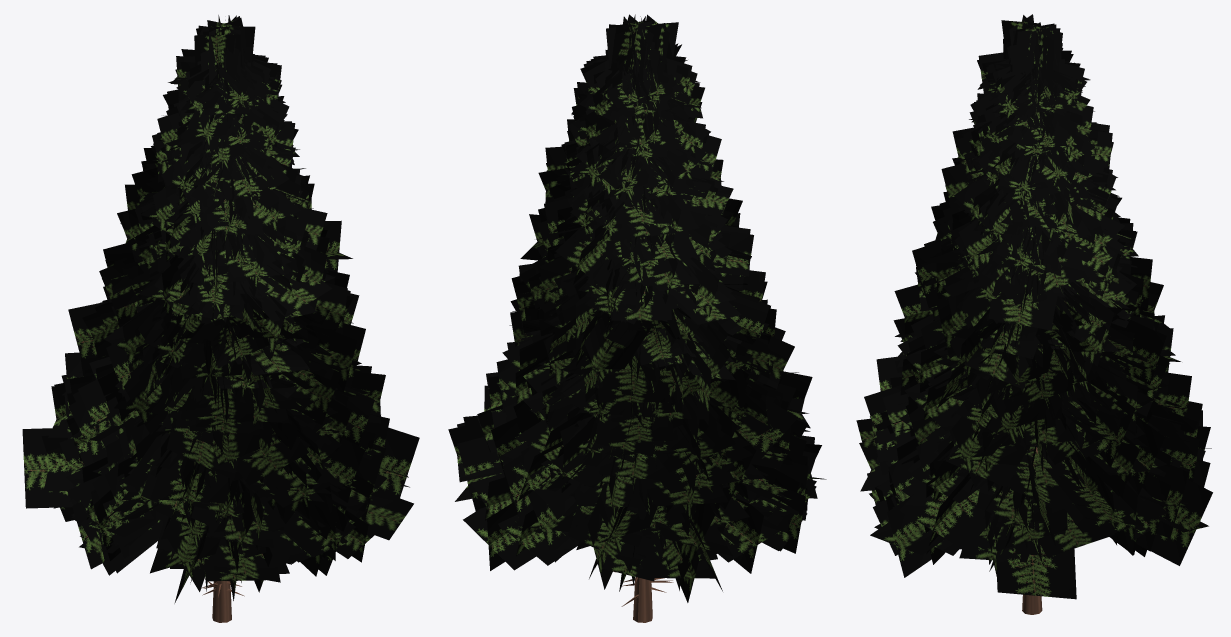
The model's file is tree_larch.glb.
3 renders of one model, left to right at view 1: azimuth 30°, elevation 25°; view 2: azimuth 150°, elevation 25°; view 3: azimuth 270°, elevation 25°, orthographic.
Parts seen in each view (by area): view 1: V2_LOD0, V3_LOD0, V6_LOD0, V7_LOD0, V5_LOD0, V4_LOD0, V1_LOD0, V0_LOD0; view 2: V2_LOD0, V5_LOD0, V1_LOD0, V6_LOD0, V4_LOD0, V7_LOD0, V3_LOD0, V0_LOD0; view 3: V2_LOD0, V5_LOD0, V1_LOD0, V3_LOD0, V4_LOD0, V0_LOD0, V7_LOD0, V6_LOD0.
Boxes of the visible parts, x1,y1,x2,y2 form: V2_LOD0: (59, 28, 413, 622); V3_LOD0: (75, 25, 385, 620); V6_LOD0: (54, 15, 419, 622); V7_LOD0: (48, 15, 409, 622); V5_LOD0: (67, 20, 387, 622); V4_LOD0: (68, 15, 385, 619); V1_LOD0: (22, 16, 374, 621); V0_LOD0: (53, 18, 375, 622); V2_LOD0: (448, 14, 816, 622); V5_LOD0: (463, 14, 807, 621); V1_LOD0: (457, 14, 821, 622); V6_LOD0: (515, 16, 805, 622); V4_LOD0: (457, 17, 810, 568); V7_LOD0: (455, 20, 807, 589); V3_LOD0: (463, 16, 816, 622); V0_LOD0: (486, 16, 826, 622); V2_LOD0: (859, 14, 1210, 613); V5_LOD0: (856, 22, 1212, 614); V1_LOD0: (875, 25, 1205, 564); V3_LOD0: (873, 15, 1211, 614); V4_LOD0: (880, 23, 1202, 612); V0_LOD0: (870, 26, 1181, 614); V7_LOD0: (864, 31, 1210, 599); V6_LOD0: (867, 23, 1163, 614).
Size of what is drawn, in the model's own units: 15.45 by 26.04 by 14.44.
2 materials, 2 textured.
